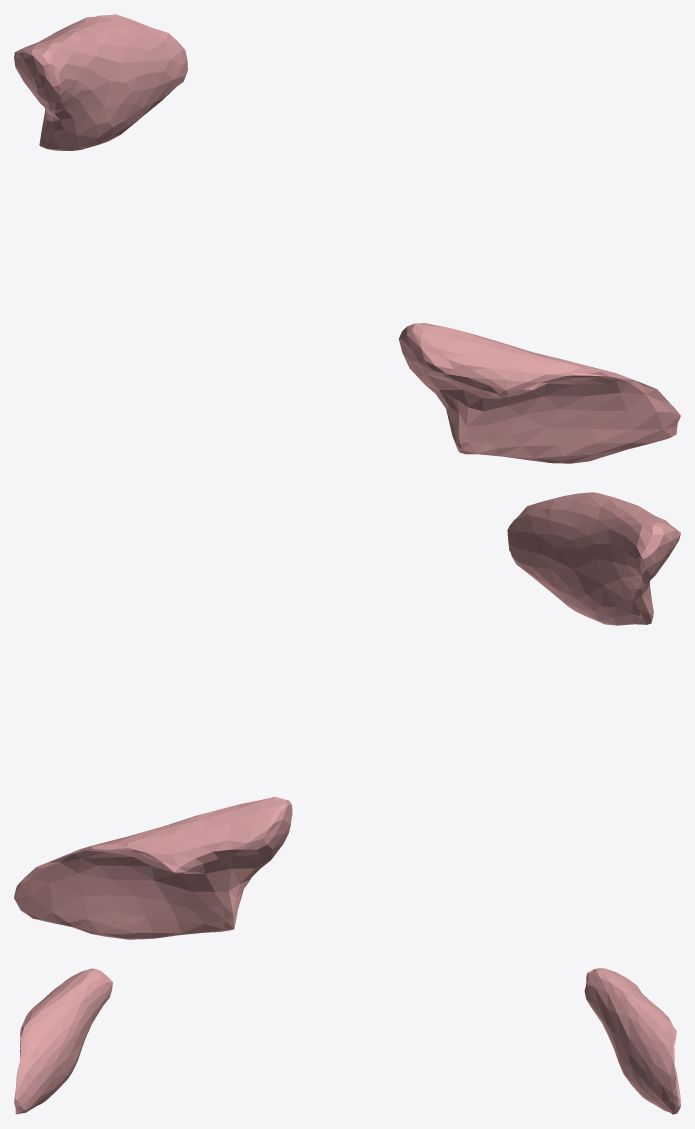
The picture shows the model from 3 angles, top to bottom: view 1: azimuth 30°, elevation 25°; view 2: azimuth 150°, elevation 25°; view 3: azimuth 270°, elevation 25°; orthographic projection. The views are drawn at different scales.
Visible parts, largest first — view 1: 1088.obj; view 2: 1088.obj; view 3: 1088.obj.
Part boxes in pixels (<box>): 1088.obj: <box>14,14,680,463</box>; 1088.obj: <box>14,492,680,939</box>; 1088.obj: <box>14,968,680,1114</box>.
Size of the model in its own units: 1188 by 737 by 4699.
